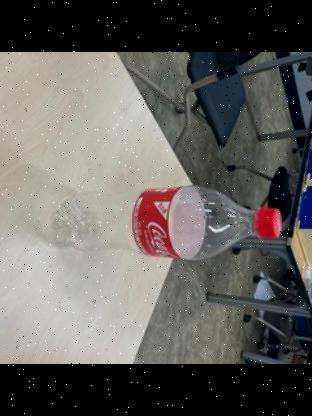Plastic Bottle: (44, 183, 286, 261)
